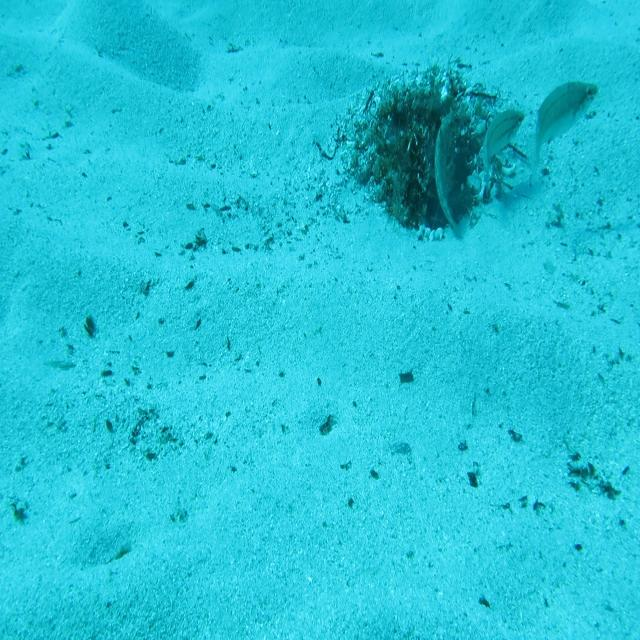FAN: (433, 107, 470, 244)
core_nest: (399, 106, 443, 138)
female: (526, 81, 602, 180), (482, 107, 525, 199)
nest: (335, 59, 518, 248)
